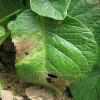Potato leaf late blight: (11, 8, 98, 97)
